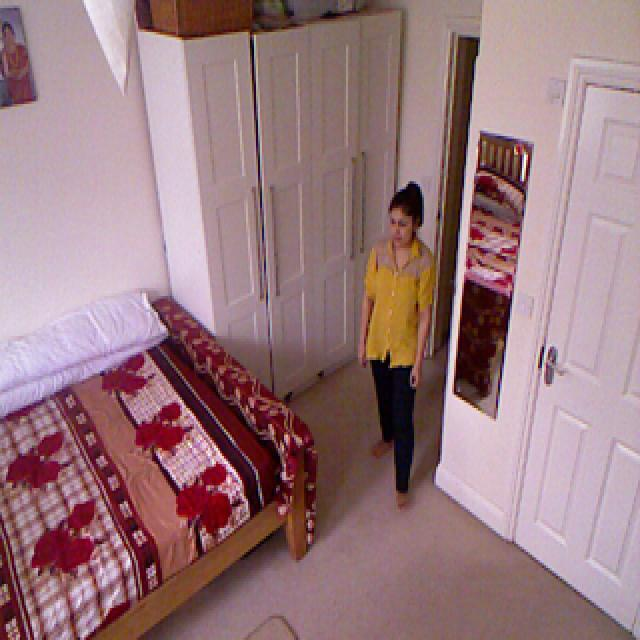standing: (354, 182, 446, 506)
